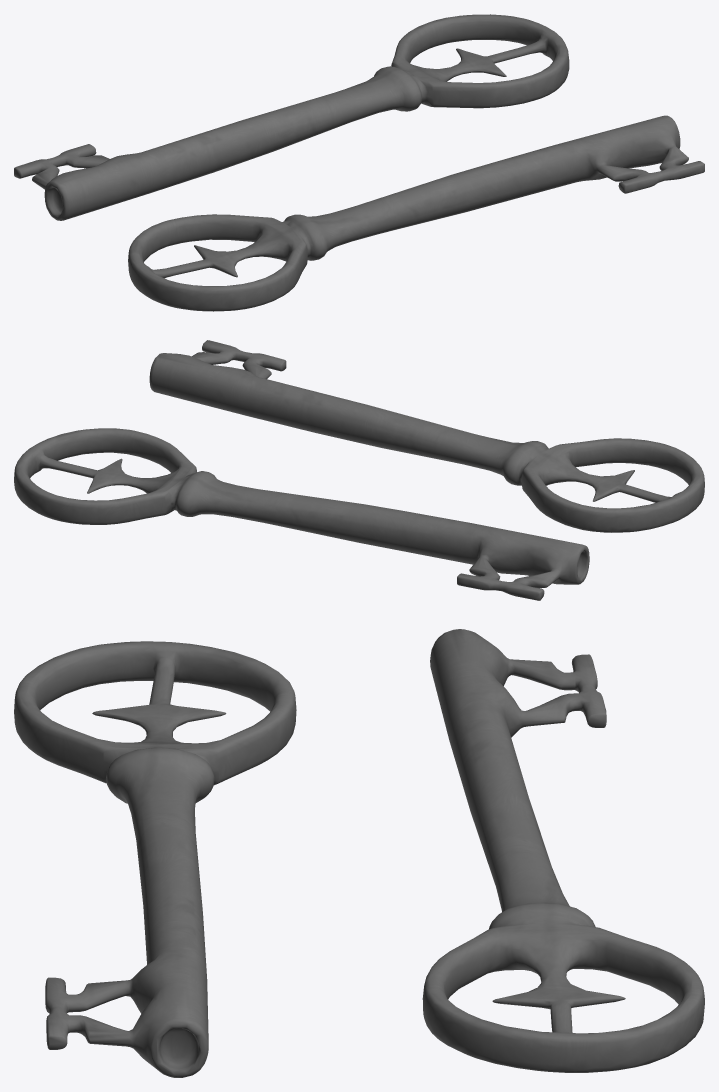
The model's file is 05_oldkey4.fbx.
3 views of the same model, one above another, from view 1: azimuth 30°, elevation 25°; view 2: azimuth 150°, elevation 25°; view 3: azimuth 270°, elevation 25° (orthographic). The views are drawn at different scales.
Visible parts, largest first — view 1: Box.002, Box.038; view 2: Box.038, Box.002; view 3: Box.038, Box.002.
Part boxes in pixels (box(x1,y1,x2,y2)): Box.002: box(128, 115, 704, 311); Box.038: box(14, 14, 569, 220); Box.038: box(14, 428, 589, 600); Box.002: box(149, 340, 704, 532); Box.038: box(422, 629, 704, 1072); Box.002: box(14, 641, 296, 1077).
Size of the model in its own units: 418 by 31.98 by 294.
